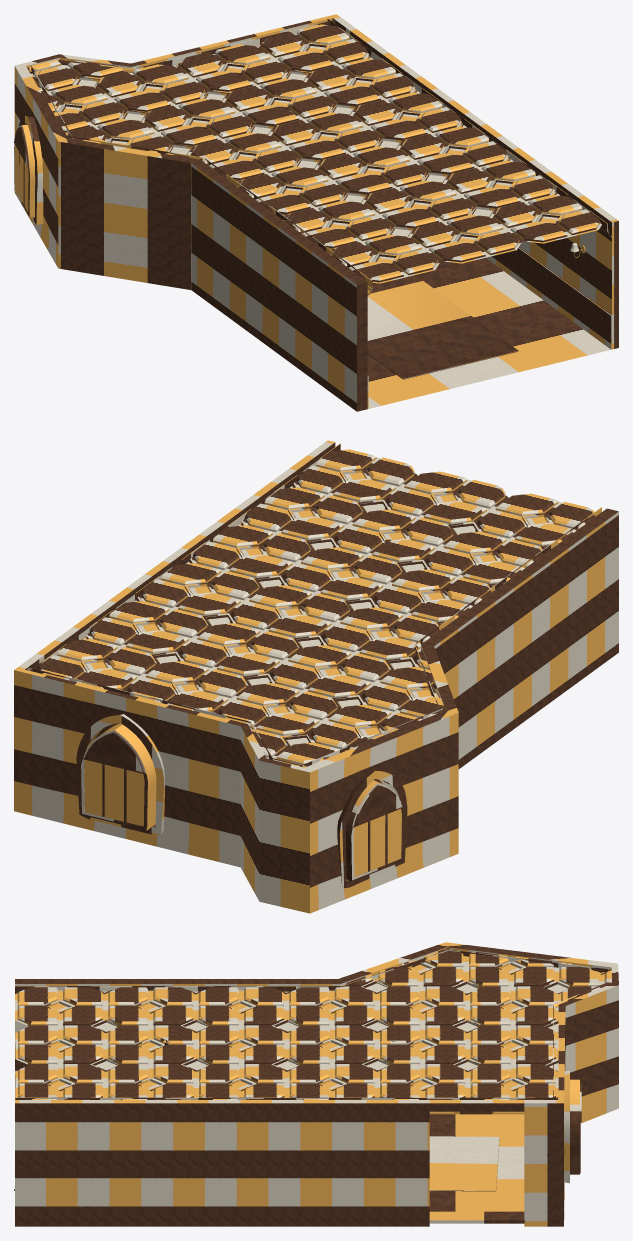
The model's file is espacioJuego.fbx.
The picture shows the model from 3 angles, top to bottom: view 1: azimuth 30°, elevation 25°; view 2: azimuth 150°, elevation 25°; view 3: azimuth 270°, elevation 25°; orthographic projection. The views are drawn at different scales.
Parts seen in each view (by area): view 1: SM_Tavan, SM_Duvar, SM_Zemin, SM_Hali, SM_Duvar_Cercevesi, SM_Giris_Kartonpiyer.001, SM_Cam_P1.001; view 2: SM_Tavan, SM_Duvar, SM_Cam_P1, SM_Cam_P1.001, SM_Giris_Kartonpiyer.001; view 3: SM_Duvar, SM_Tavan, SM_Zemin, SM_Hali.001, SM_Giris_Kartonpiyer.001, SM_Merdiven_Basamagi_P1, SM_Cam_P1.
Boxes of the visible parts, x1,y1,x2,y2 form: SM_Tavan: (27,24,601,283); SM_Duvar: (14,14,618,411); SM_Zemin: (367,258,610,408); SM_Hali: (367,281,518,379); SM_Duvar_Cercevesi: (367,247,612,408); SM_Giris_Kartonpiyer.001: (27,19,611,296); SM_Cam_P1.001: (14,124,35,217); SM_Tavan: (37,449,595,766); SM_Duvar: (14,440,618,913); SM_Cam_P1: (81,723,156,830); SM_Cam_P1.001: (346,779,404,881); SM_Giris_Kartonpiyer.001: (27,443,601,767); SM_Duvar: (15,942,618,1226); SM_Tavan: (15,948,611,1099); SM_Zemin: (429,1114,524,1211); SM_Hali.001: (429,1136,499,1191); SM_Giris_Kartonpiyer.001: (15,948,610,1114); SM_Merdiven_Basamagi_P1: (429,1211,525,1223); SM_Cam_P1: (570,1079,581,1174).
Bounding box in the file's own units: 1336 × 480 × 2123.
Materials: 14 (14 with a texture image).
